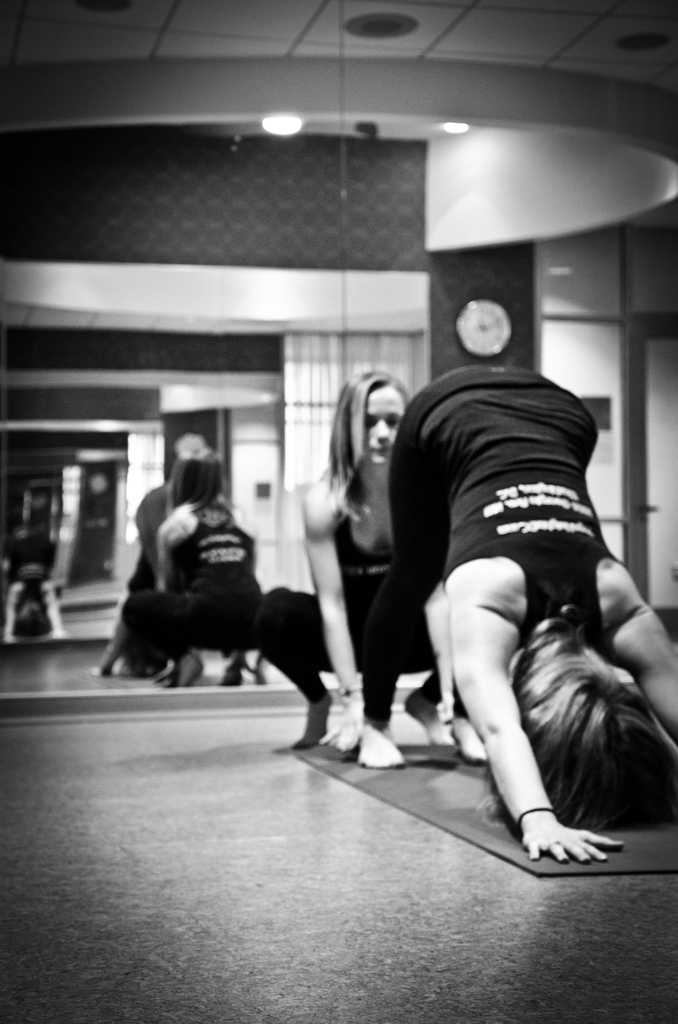Person: (116, 449, 266, 695), (0, 488, 63, 642)
